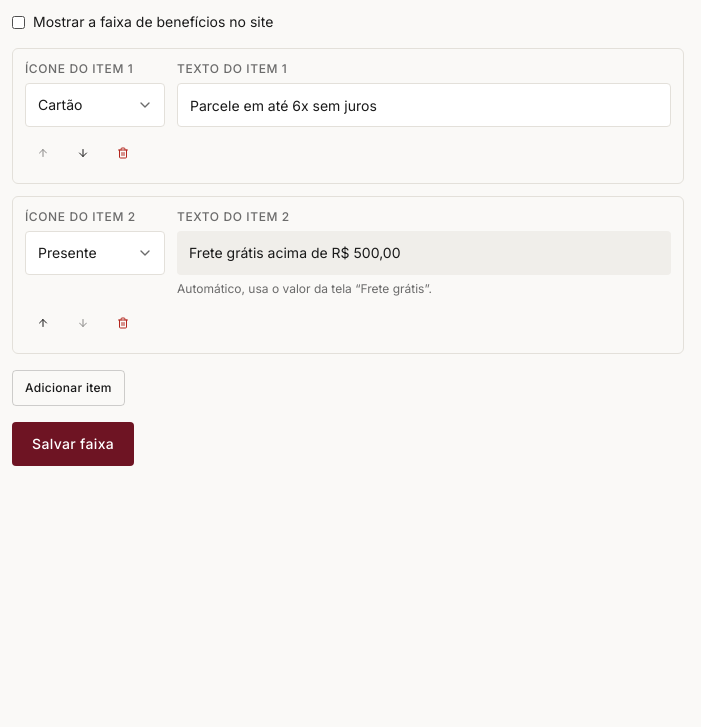
it: HighlightsForm › remove itens e esconde "Adicionar" ao chegar em 4
Click the button "Adicionar item": (68, 388) x1=12 y1=370 x2=125 y2=406
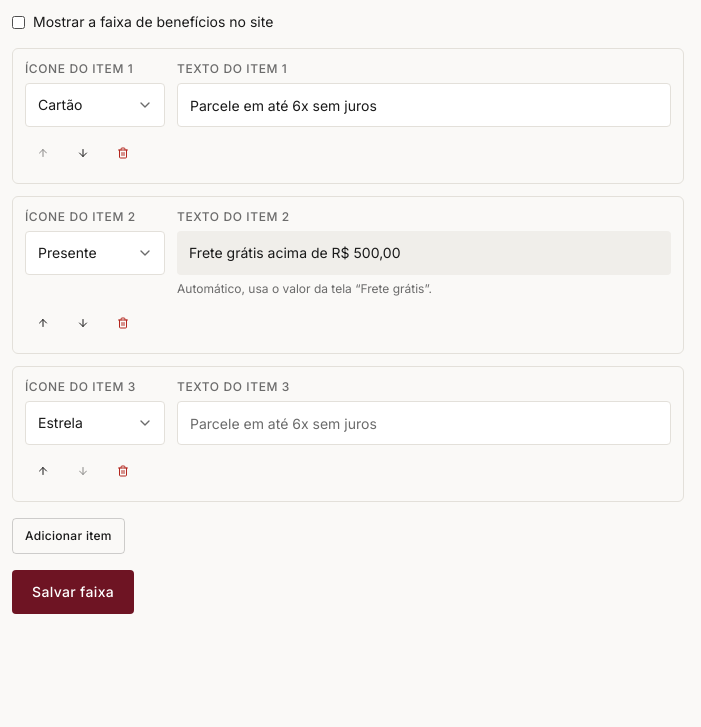
Click the button "Adicionar item": (68, 536) x1=12 y1=518 x2=125 y2=554
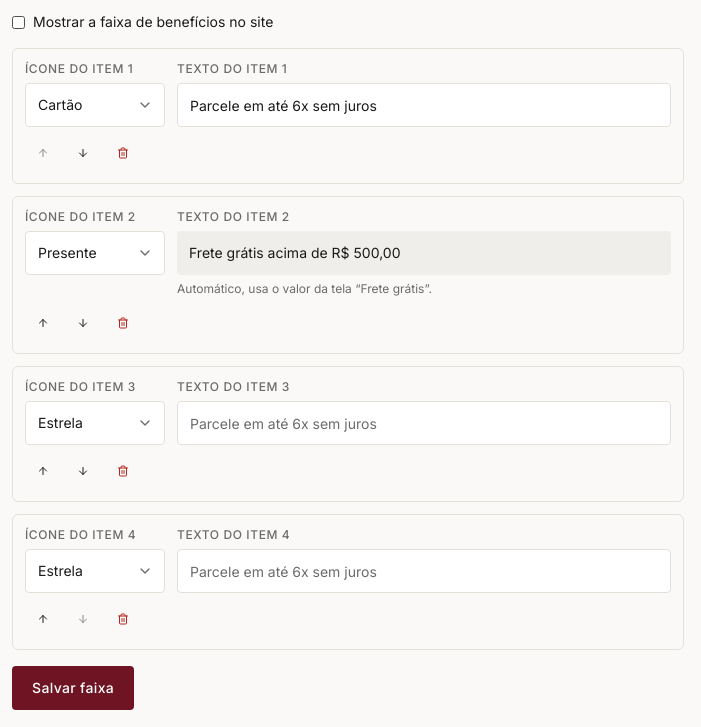
Check: the button "Adicionar item" is gone
Click the button named "Remover item 4": (123, 619) x1=105 y1=601 x2=141 y2=637
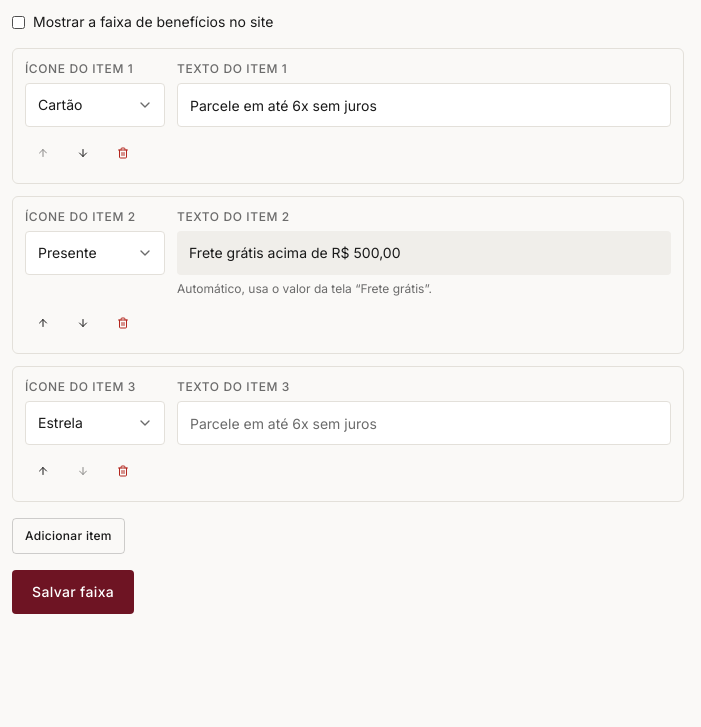
Check: the button "Adicionar item" is shown, box x1=12 y1=518 x2=125 y2=554
